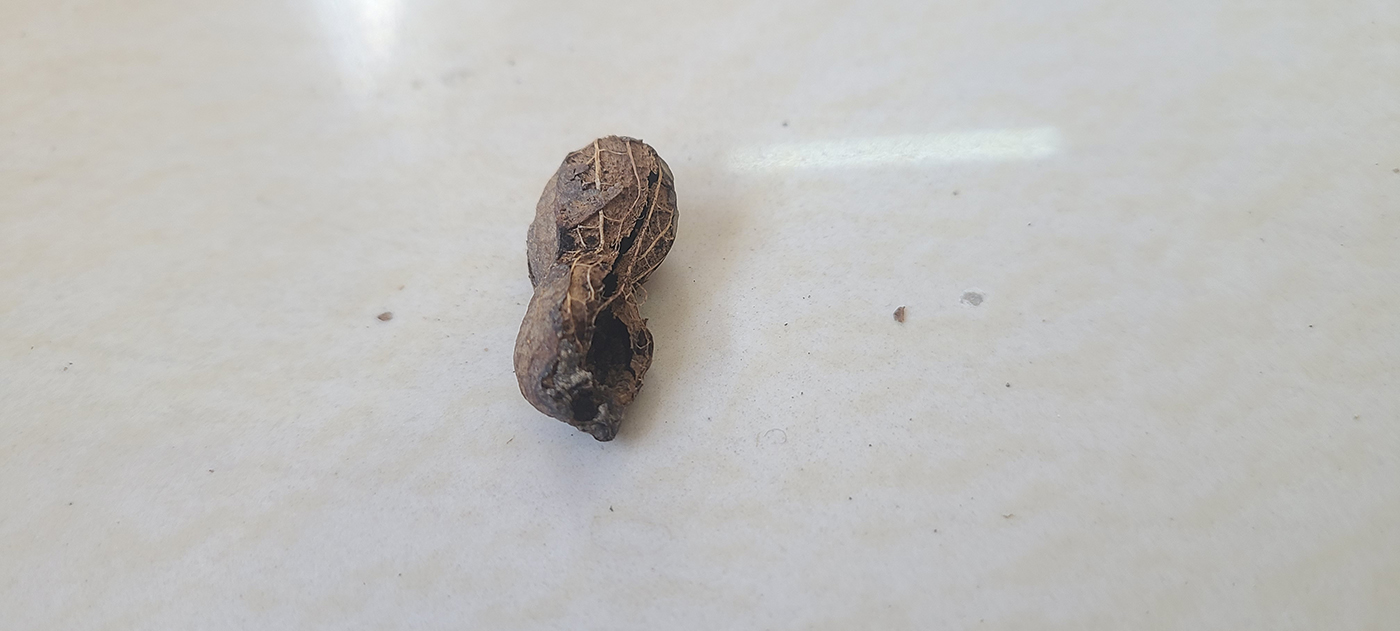l: (510, 132, 676, 442)
